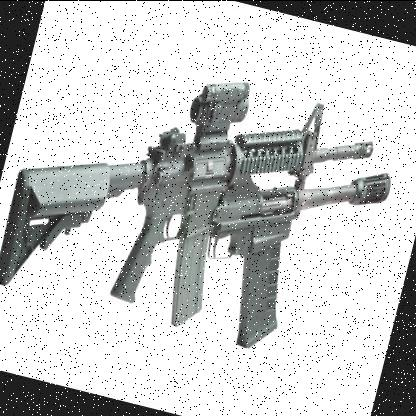rifle: (0, 6, 409, 398)
